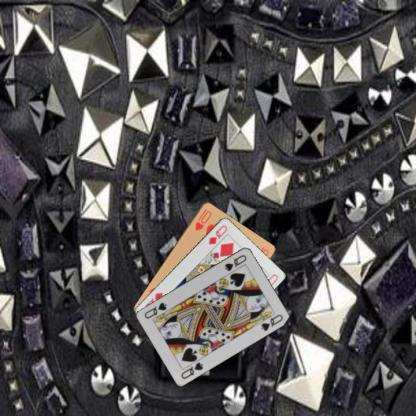10h: (192, 206, 212, 232)
Qd: (206, 223, 229, 245)
Qs: (222, 252, 248, 272), (178, 360, 204, 380)
